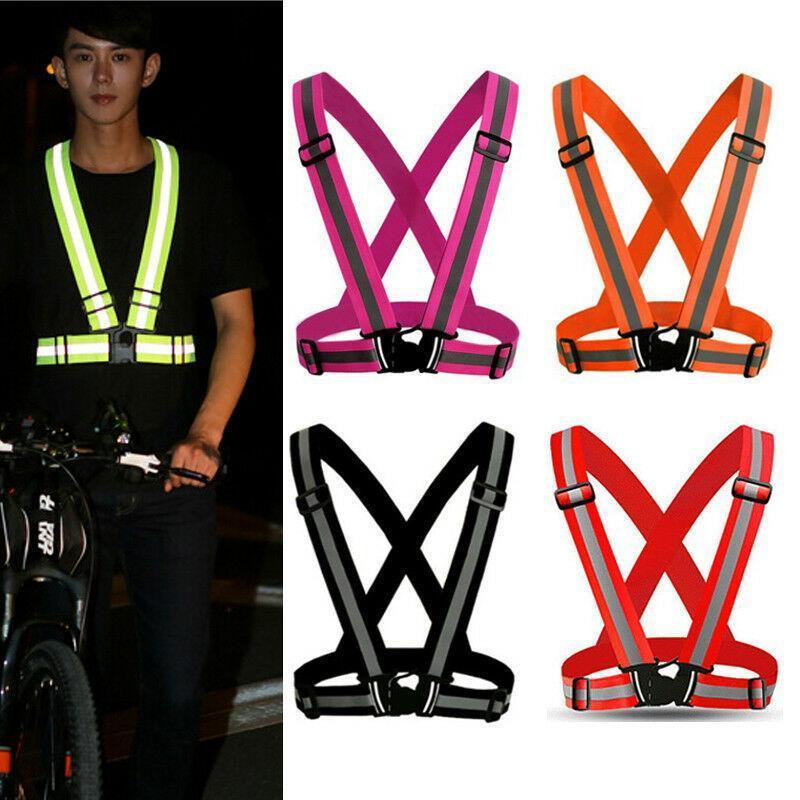Vest: (34, 133, 215, 383)
